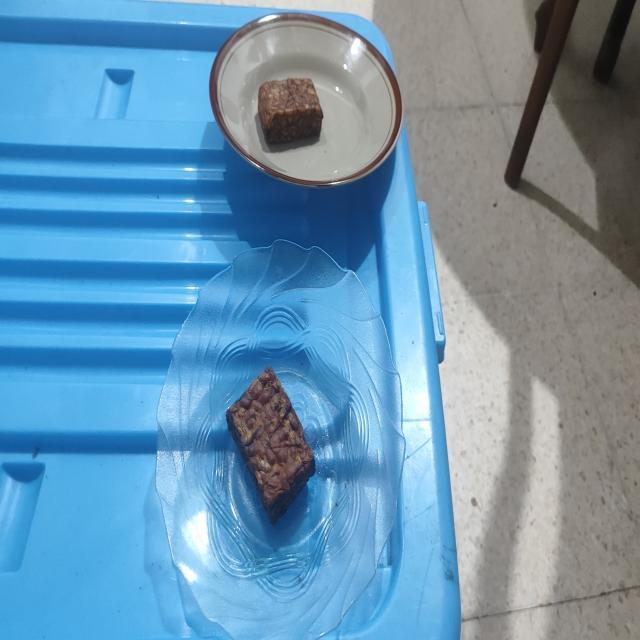tempe_goreng: (226, 367, 315, 523), (258, 78, 322, 144)
